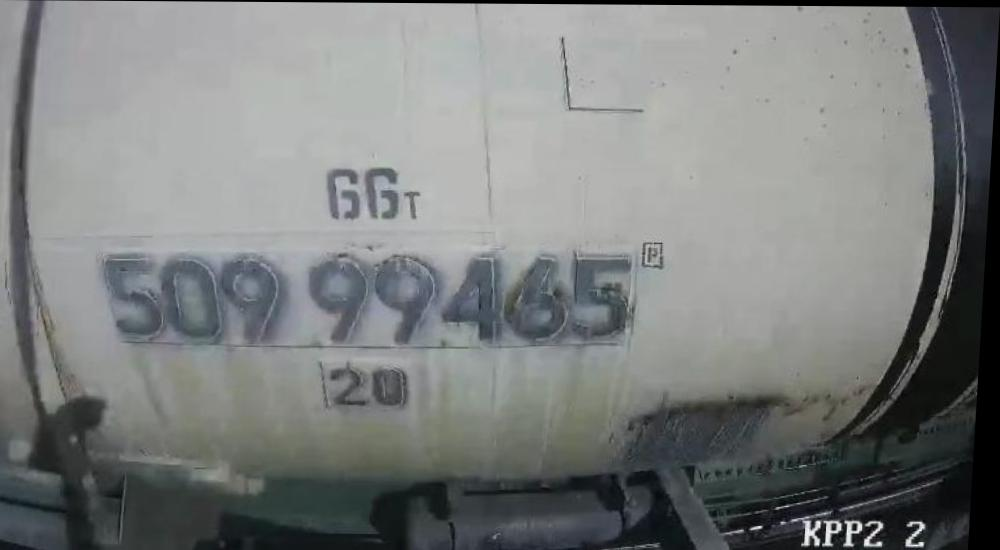Wagon-number: (99, 244, 645, 352)
